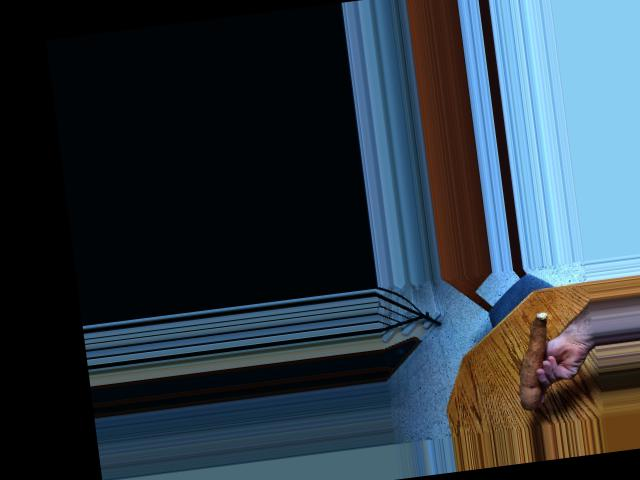sweet_potato: (505, 309, 559, 409)
